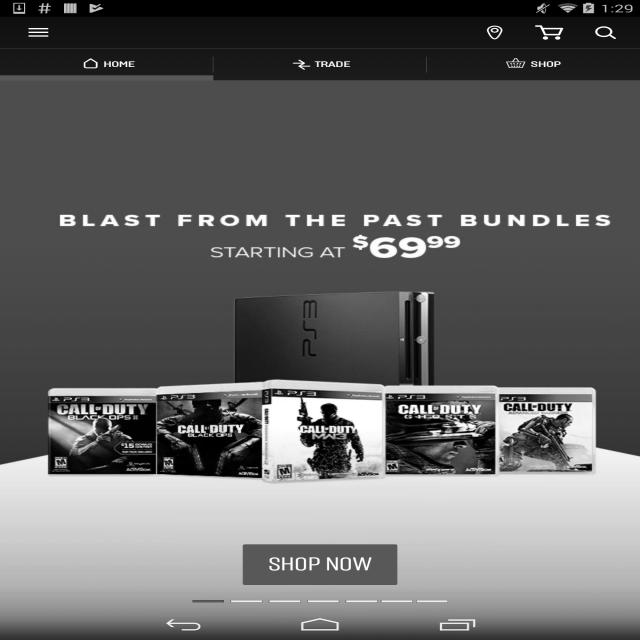ImageButton: (9, 16, 68, 48)
ImageView: (0, 16, 640, 640), (521, 16, 580, 48)
TextView: (244, 544, 398, 585), (580, 16, 632, 48), (470, 16, 520, 48), (289, 56, 350, 72), (78, 56, 135, 72), (505, 56, 561, 72)
